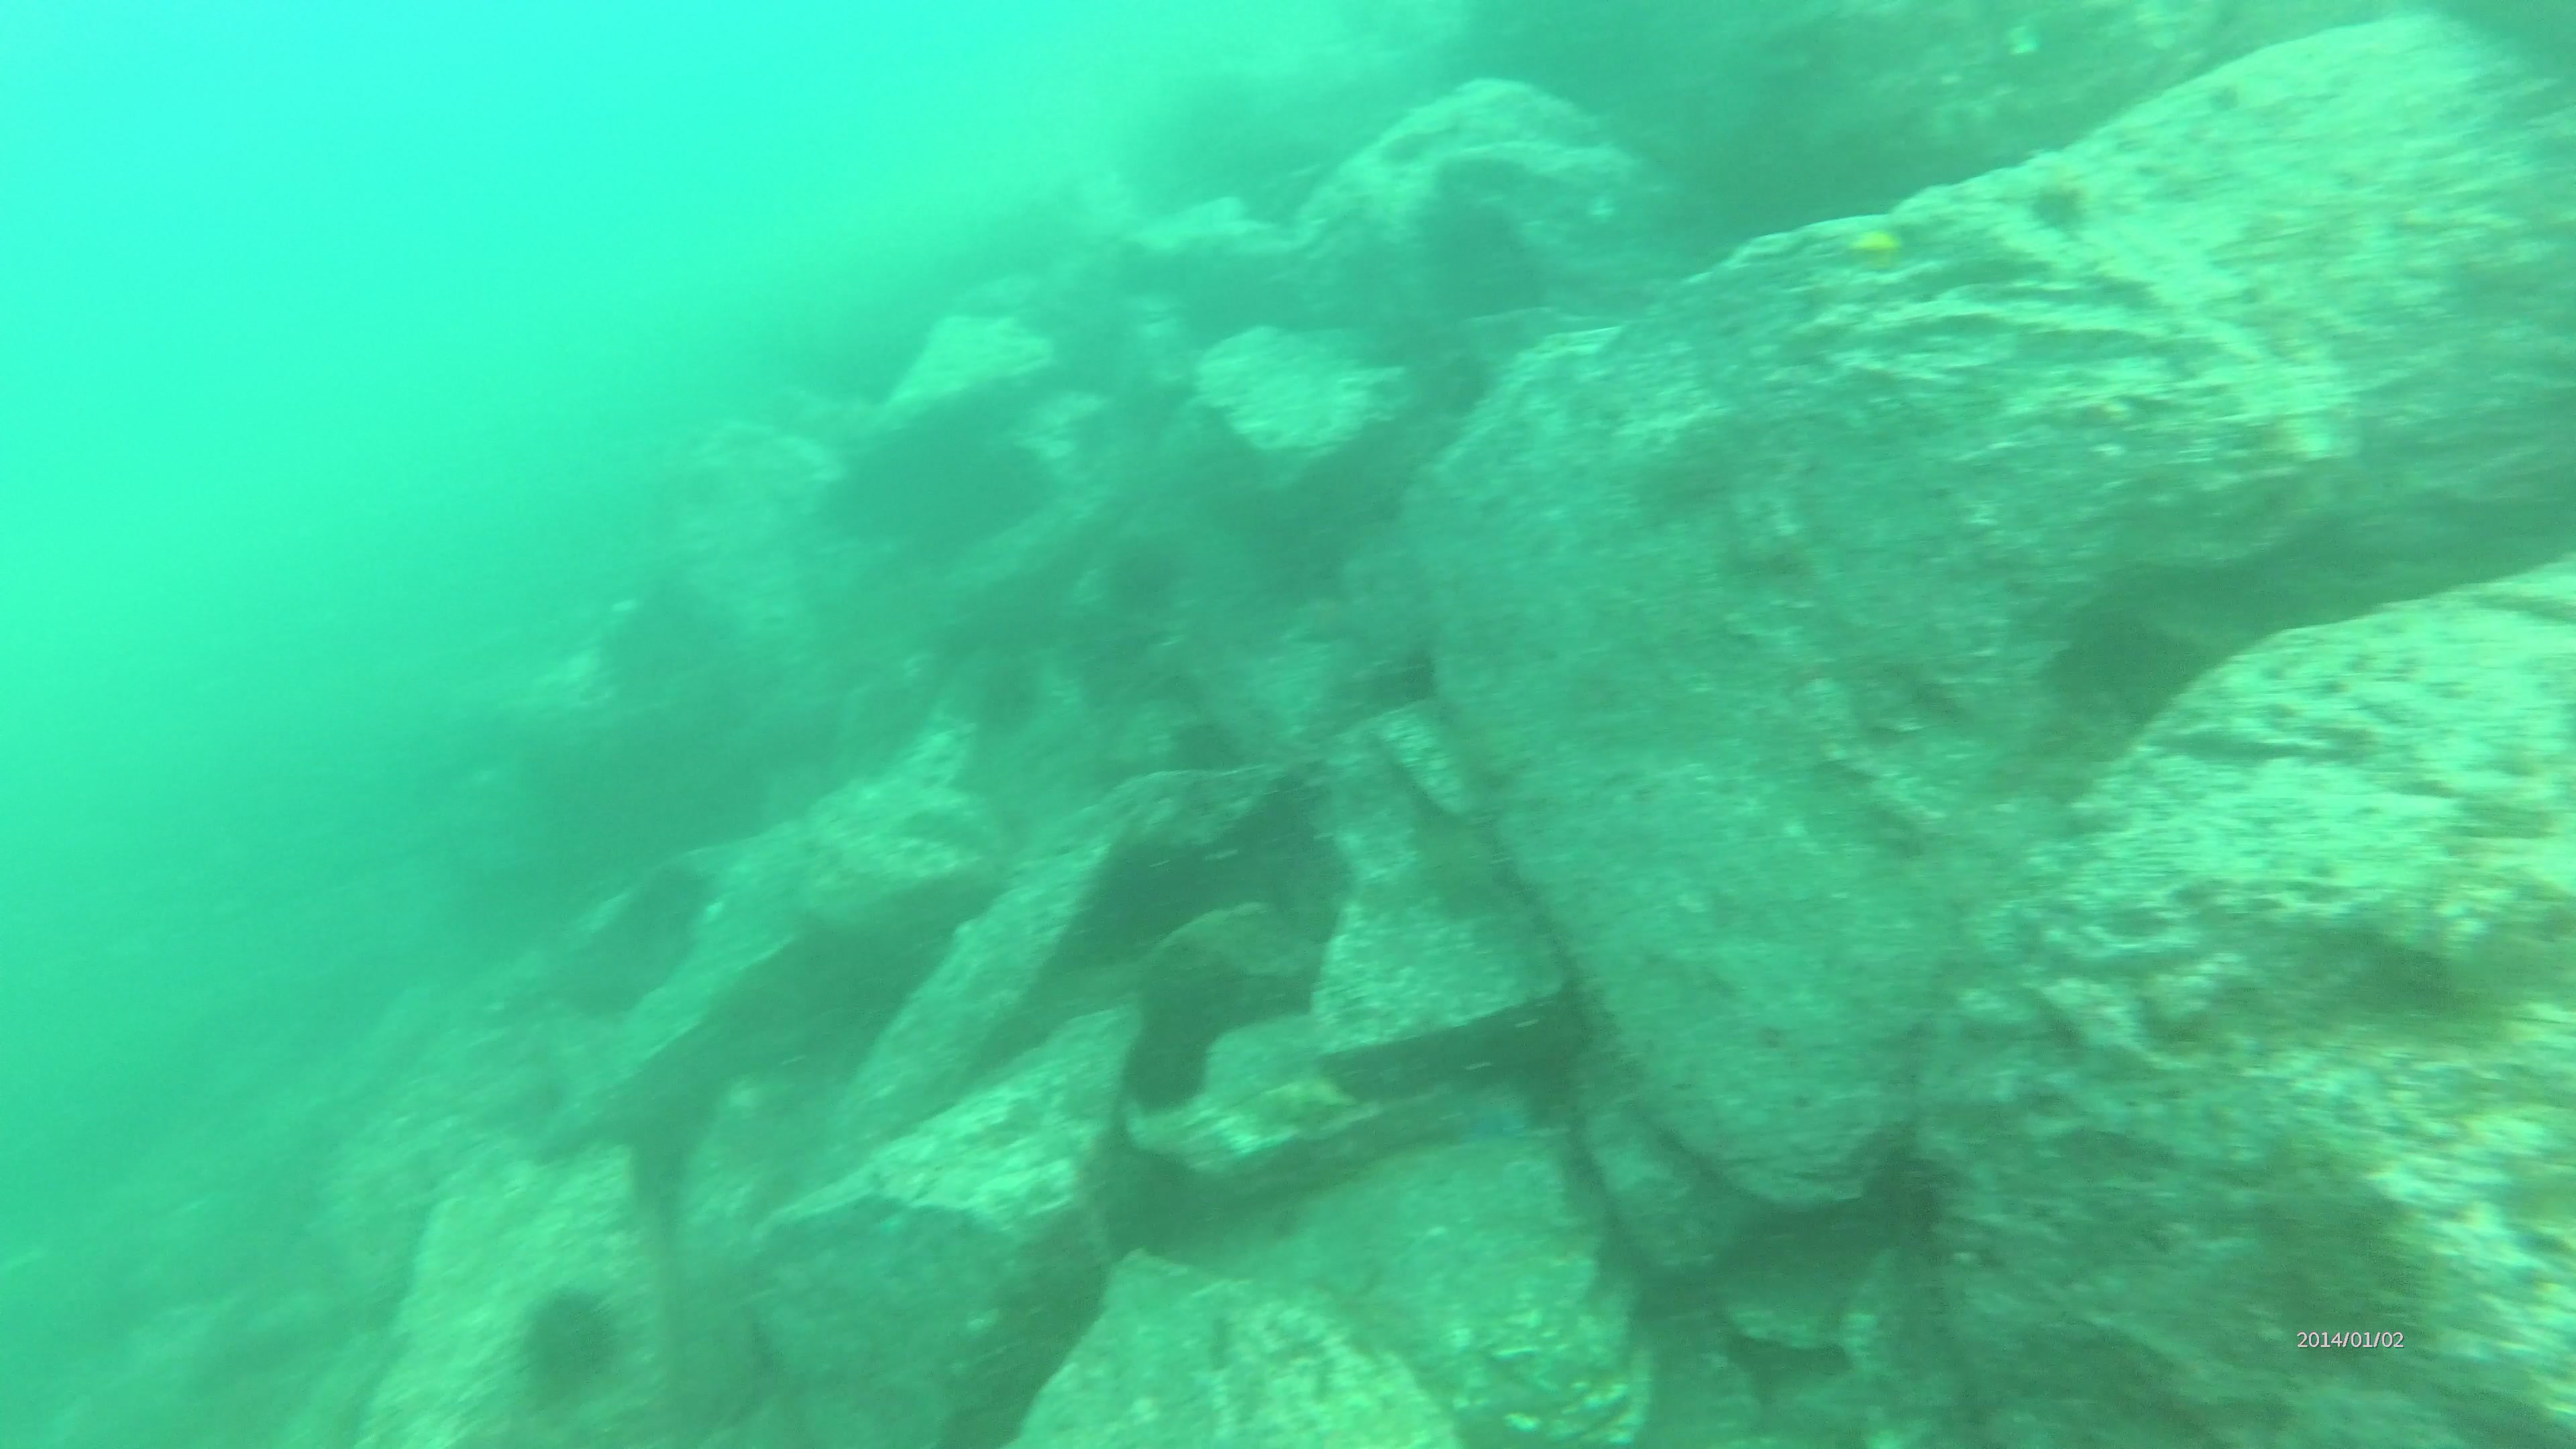echinus: (499, 1288, 628, 1424), (957, 648, 1056, 747), (1125, 1016, 1215, 1115), (1419, 826, 1502, 911), (1102, 534, 1185, 610)
starfish: (1440, 1070, 1560, 1154)
